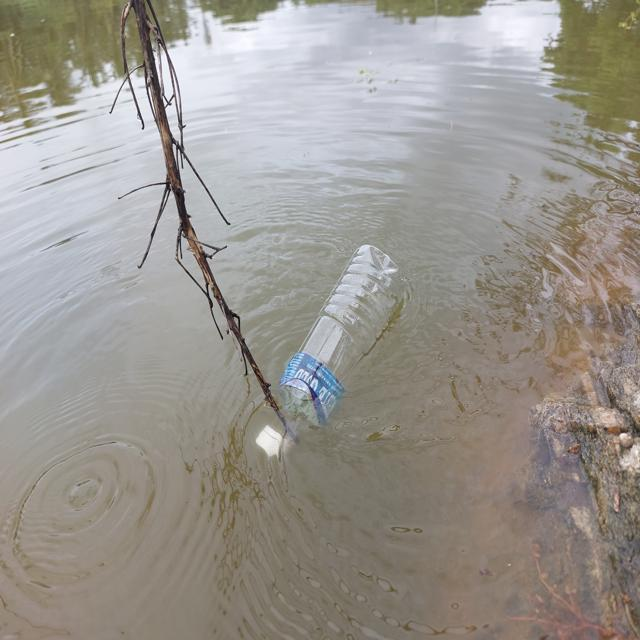waterbottle: (249, 238, 407, 477)
